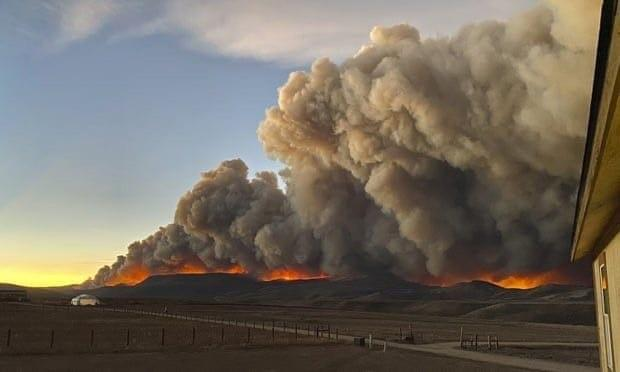fire: (258, 265, 321, 291), (489, 272, 547, 294), (115, 274, 154, 287)
smoke: (222, 0, 608, 261), (116, 187, 216, 266), (73, 264, 115, 294)
